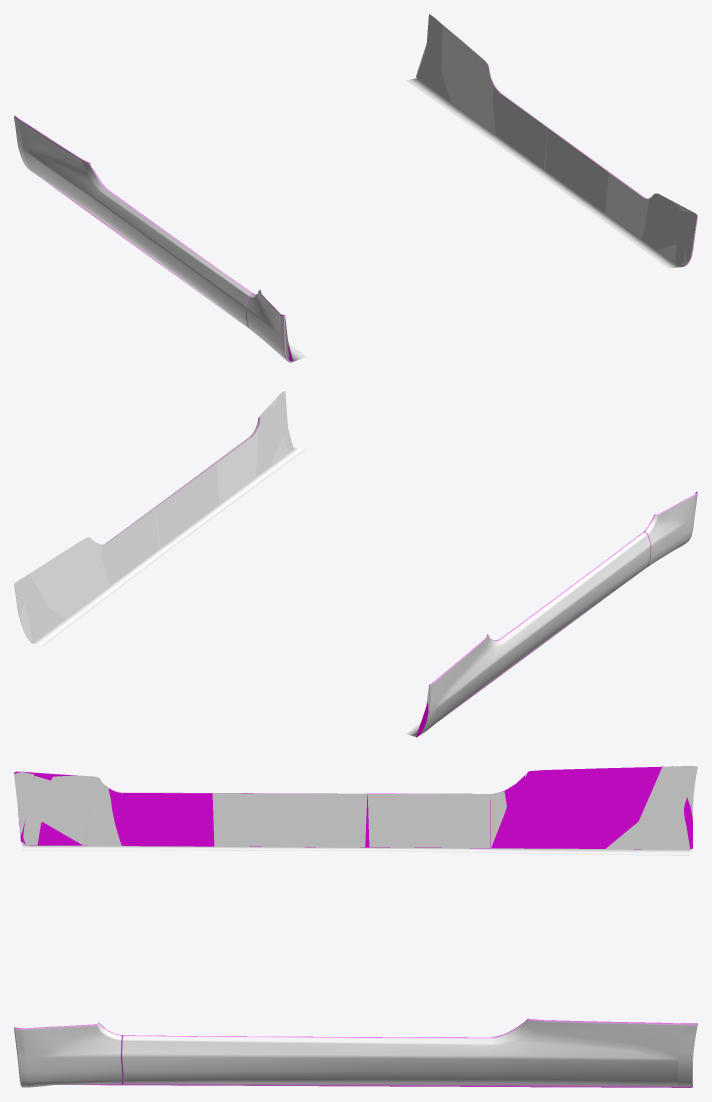
The model's file is Car_Nissan_SkylineGTRVspecR34_1999_Skirts_SetA.fbx.
3 views of the same model, one above another, from view 1: azimuth 30°, elevation 25°; view 2: azimuth 150°, elevation 25°; view 3: azimuth 270°, elevation 25° (orthographic). The views are drawn at different scales.
Parts seen in each view (by area): view 1: Skirts 6; view 2: Skirts 6; view 3: Skirts 6.
Part boxes in pixels (<box>): Skirts 6: <box>14,14,697,362</box>; Skirts 6: <box>14,391,697,737</box>; Skirts 6: <box>14,766,697,1087</box>.
Size of the model in its own units: 1.73 by 0.231 by 1.94.
